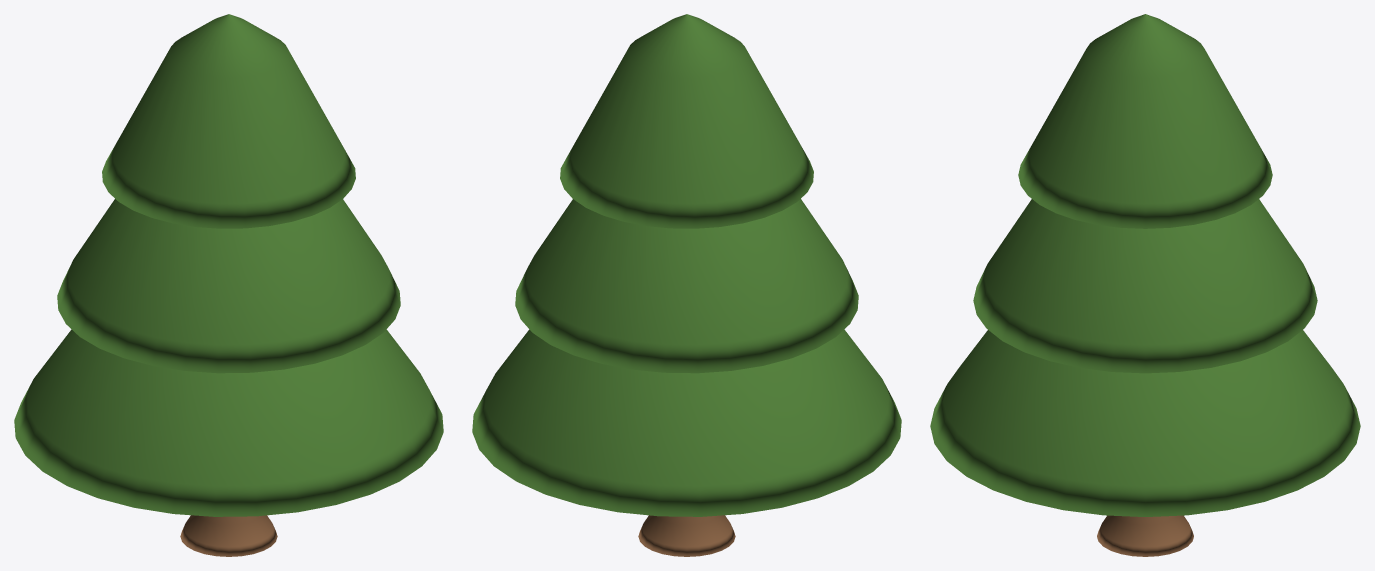
The model's file is tree-pine.glb.
3 renders of one model, left to right at view 1: azimuth 30°, elevation 25°; view 2: azimuth 150°, elevation 25°; view 3: azimuth 270°, elevation 25°, orthographic.
Parts seen in each view (by area): view 1: Mesh_FoliageBottom, Mesh_FoliageMiddle, Mesh_FoliageTop, Mesh_Trunk; view 2: Mesh_FoliageBottom, Mesh_FoliageMiddle, Mesh_FoliageTop, Mesh_Trunk; view 3: Mesh_FoliageBottom, Mesh_FoliageMiddle, Mesh_FoliageTop, Mesh_Trunk.
Part boxes in pixels (x1,y1,x2,y2): Mesh_FoliageBottom: (14, 329, 443, 516); Mesh_FoliageMiddle: (57, 199, 400, 373); Mesh_FoliageTop: (102, 14, 355, 228); Mesh_Trunk: (180, 515, 277, 556); Mesh_FoliageBottom: (472, 329, 901, 516); Mesh_FoliageMiddle: (515, 199, 858, 373); Mesh_FoliageTop: (560, 14, 813, 228); Mesh_Trunk: (638, 515, 735, 556); Mesh_FoliageBottom: (930, 330, 1360, 516); Mesh_FoliageMiddle: (973, 199, 1317, 373); Mesh_FoliageTop: (1018, 14, 1272, 228); Mesh_Trunk: (1097, 515, 1193, 556).
Bounding box in the file's own units: 2.3 × 3.08 × 2.3.
